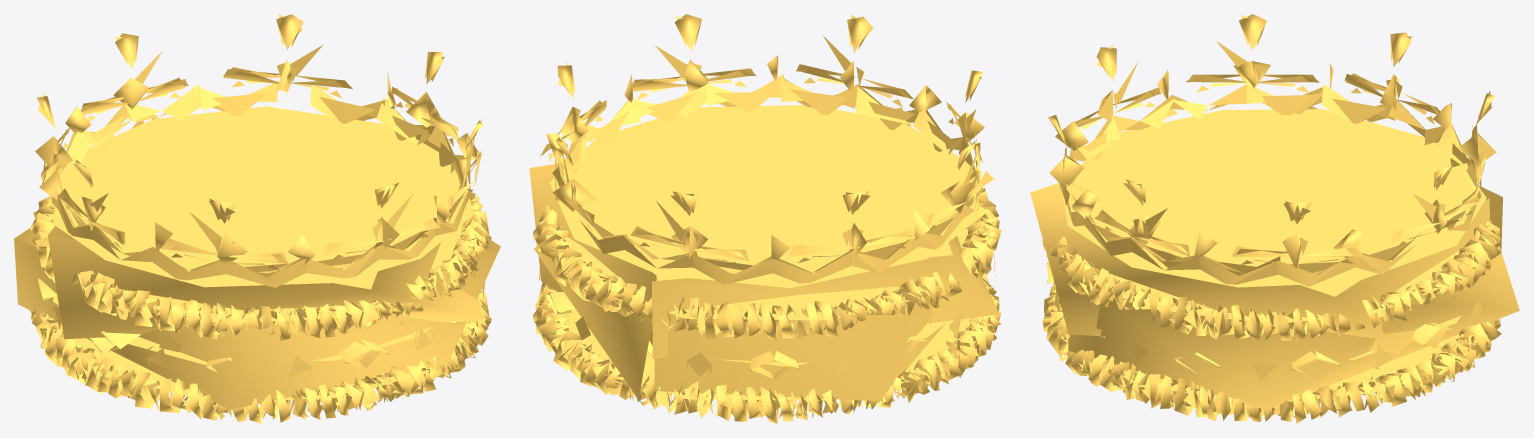
File: Gold_Medallion.glb
The picture shows the model from 3 angles, left to right: view 1: azimuth 30°, elevation 25°; view 2: azimuth 150°, elevation 25°; view 3: azimuth 270°, elevation 25°; orthographic projection.
Parts seen in each view (by area): view 1: Gold_Medallion; view 2: Gold_Medallion; view 3: Gold_Medallion.
Boxes of the visible parts, <box> form: Gold_Medallion: <box>14,14,500,423</box>; Gold_Medallion: <box>529,14,1001,423</box>; Gold_Medallion: <box>1030,14,1519,423</box>.
Bounding box in the file's own units: 0.3947 × 0.2187 × 0.4.
